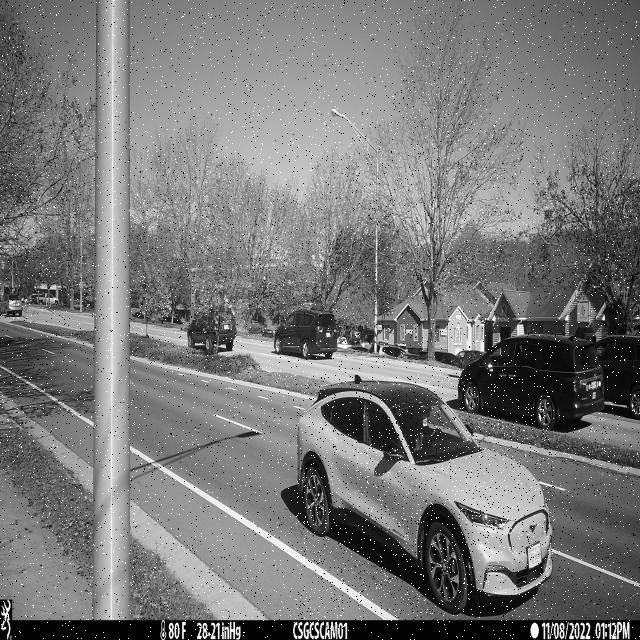SUV: (297, 374, 554, 616)
